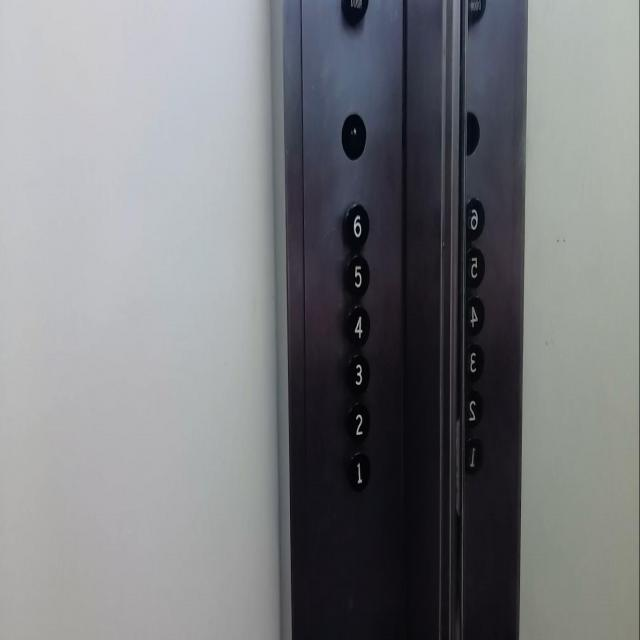1: (345, 447, 371, 491)
2: (345, 398, 371, 447)
3: (346, 352, 372, 398)
4: (344, 302, 370, 348)
5: (344, 253, 370, 299)
6: (344, 202, 369, 250)
blur: (341, 111, 366, 161)
unknown: (461, 293, 485, 336), (462, 341, 486, 382), (461, 433, 484, 474), (462, 245, 484, 287), (464, 195, 485, 238), (462, 388, 484, 428)
